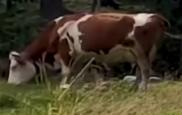cow: (9, 13, 170, 92)
